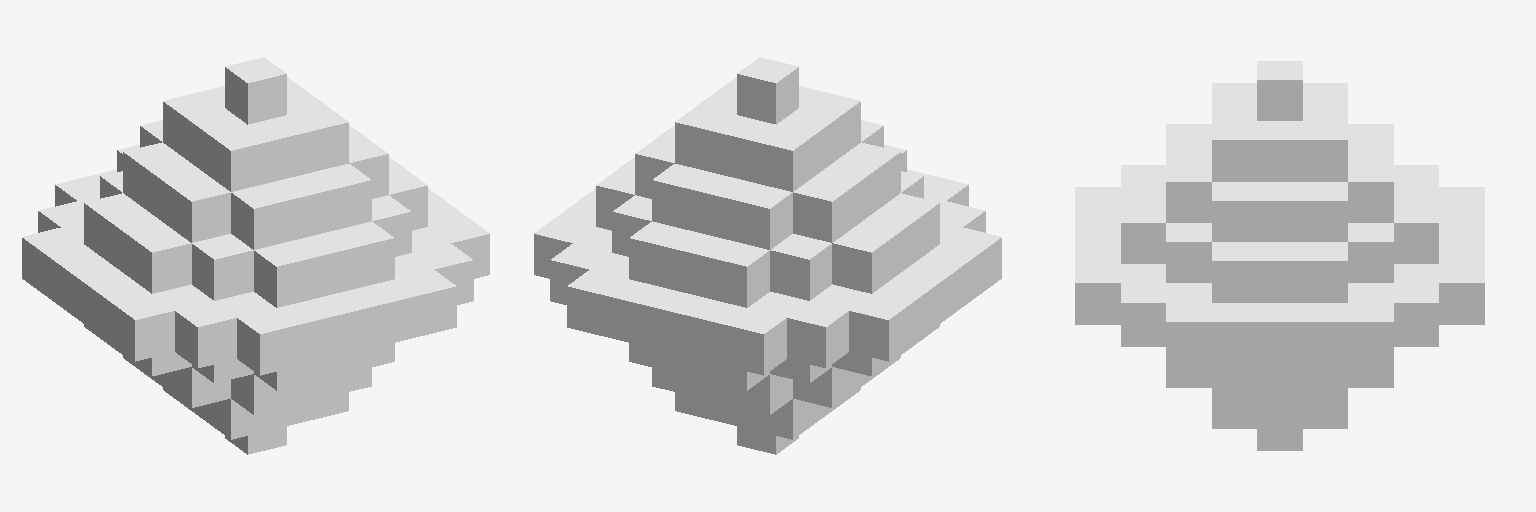
The model's file is collect.obj.
3 renders of one model, left to right at view 1: azimuth 30°, elevation 25°; view 2: azimuth 150°, elevation 25°; view 3: azimuth 270°, elevation 25°, orthographic.
Visible parts, largest first — view 1: collect; view 2: collect; view 3: collect.
Boxes of the visible parts, x1,y1,x2,y2 form: collect: [22, 57, 489, 454]; collect: [534, 57, 1001, 454]; collect: [1075, 61, 1484, 450].
Bounding box in the file's own units: 9 × 9 × 9.